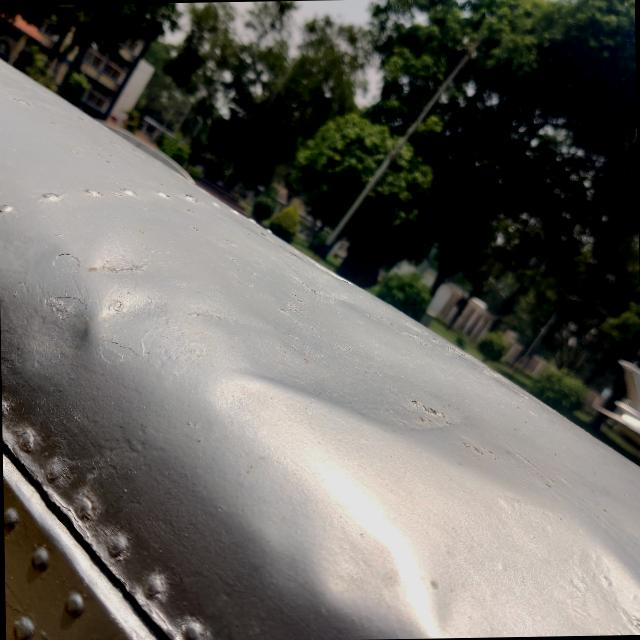dent: (178, 215, 487, 470), (6, 281, 115, 394)
